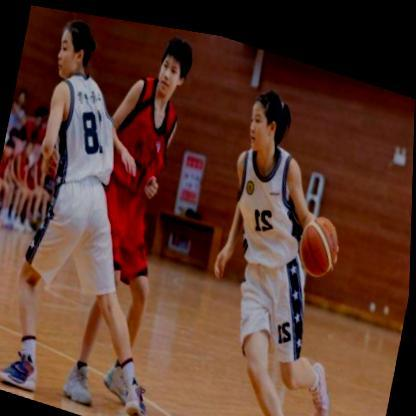basketball: (296, 200, 343, 271)
